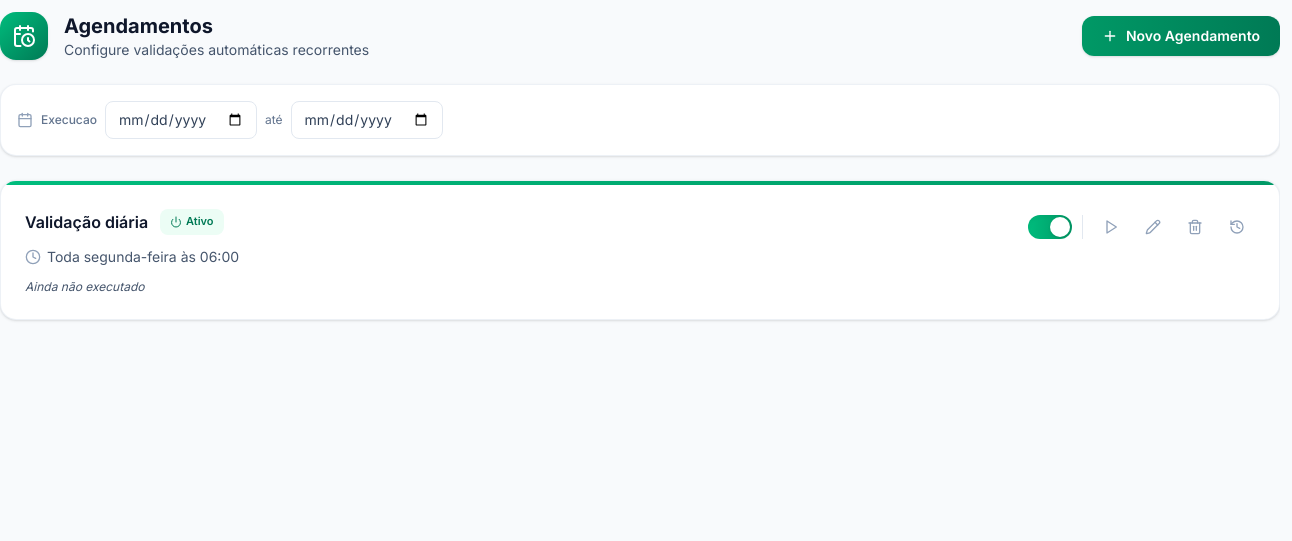
Scenario: CertAgendamentosPage › rotula os três estados do histórico em vez de uma bolinha vermelha muda
The width and height of the screenshot is (1292, 541).
Expected: the heading "Validação diária" is shown, [25,210,148,234]
Click the button named "Mostrar historico do agendamento".
click(1237, 227)  # box [1219,209,1255,245]
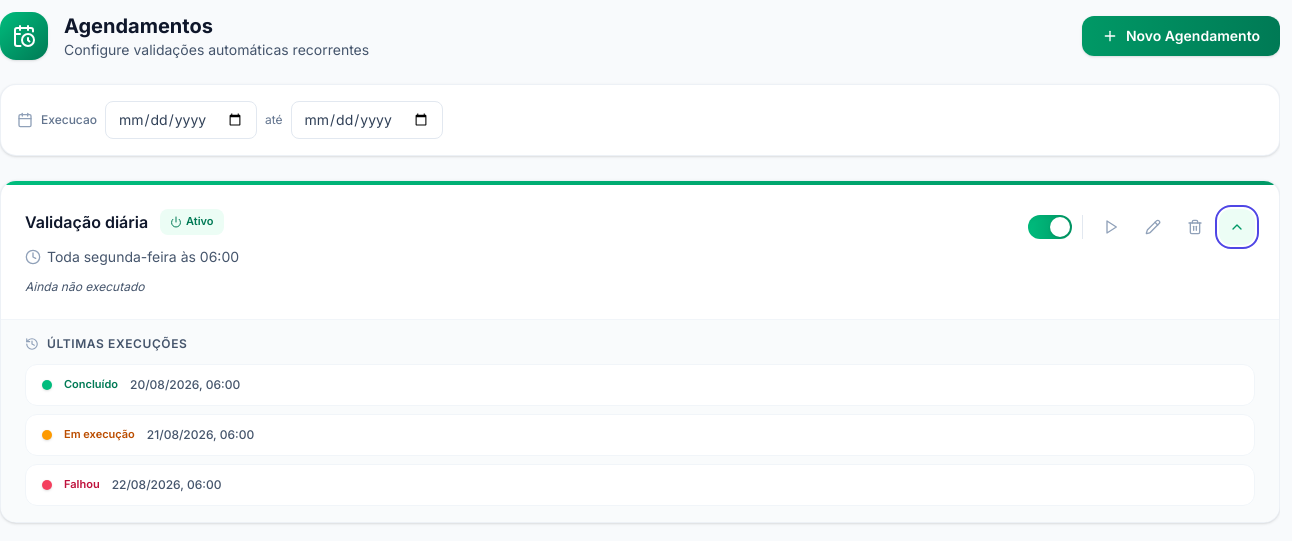
Expected: the text "Concluído" is shown, [64,377,118,392]
Expected: the text "Em execução" is shown, [64,427,135,442]
Expected: the text "Falhou" is shown, [64,477,100,492]
